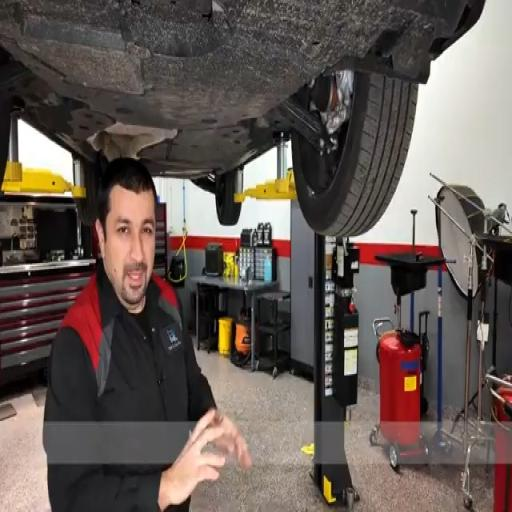tire: (292, 73, 418, 236), (76, 161, 99, 226), (216, 170, 241, 226), (0, 99, 11, 184)
wheel: (292, 73, 417, 236), (76, 156, 101, 226)
